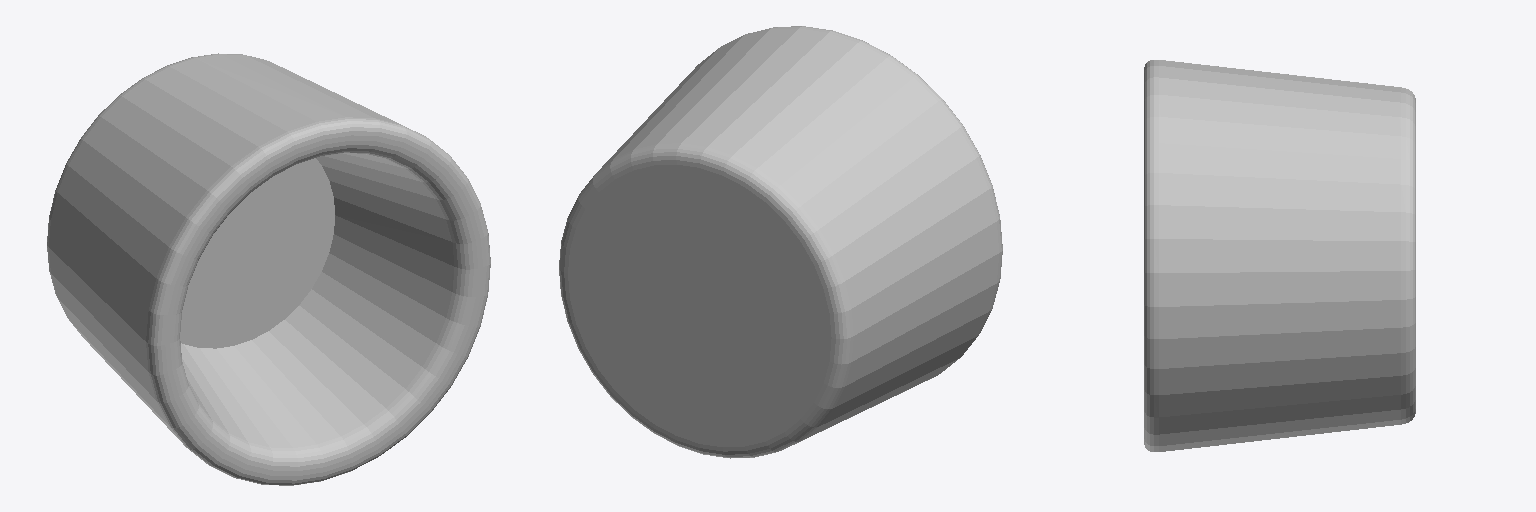
The model's file is plant_pot.obj.
The picture shows the model from 3 angles: view 1: azimuth 30°, elevation 25°; view 2: azimuth 150°, elevation 25°; view 3: azimuth 270°, elevation 25°; orthographic projection.
Parts seen in each view (by area): view 1: plant_c; view 2: plant_c; view 3: plant_c.
Boxes of the visible parts, box(x1,y1,x2,y2) form: plant_c: box(47, 53, 490, 485); plant_c: box(559, 26, 1002, 458); plant_c: box(1144, 60, 1415, 451).
Bounding box in the file's own units: 38.84 × 38.84 × 26.88.